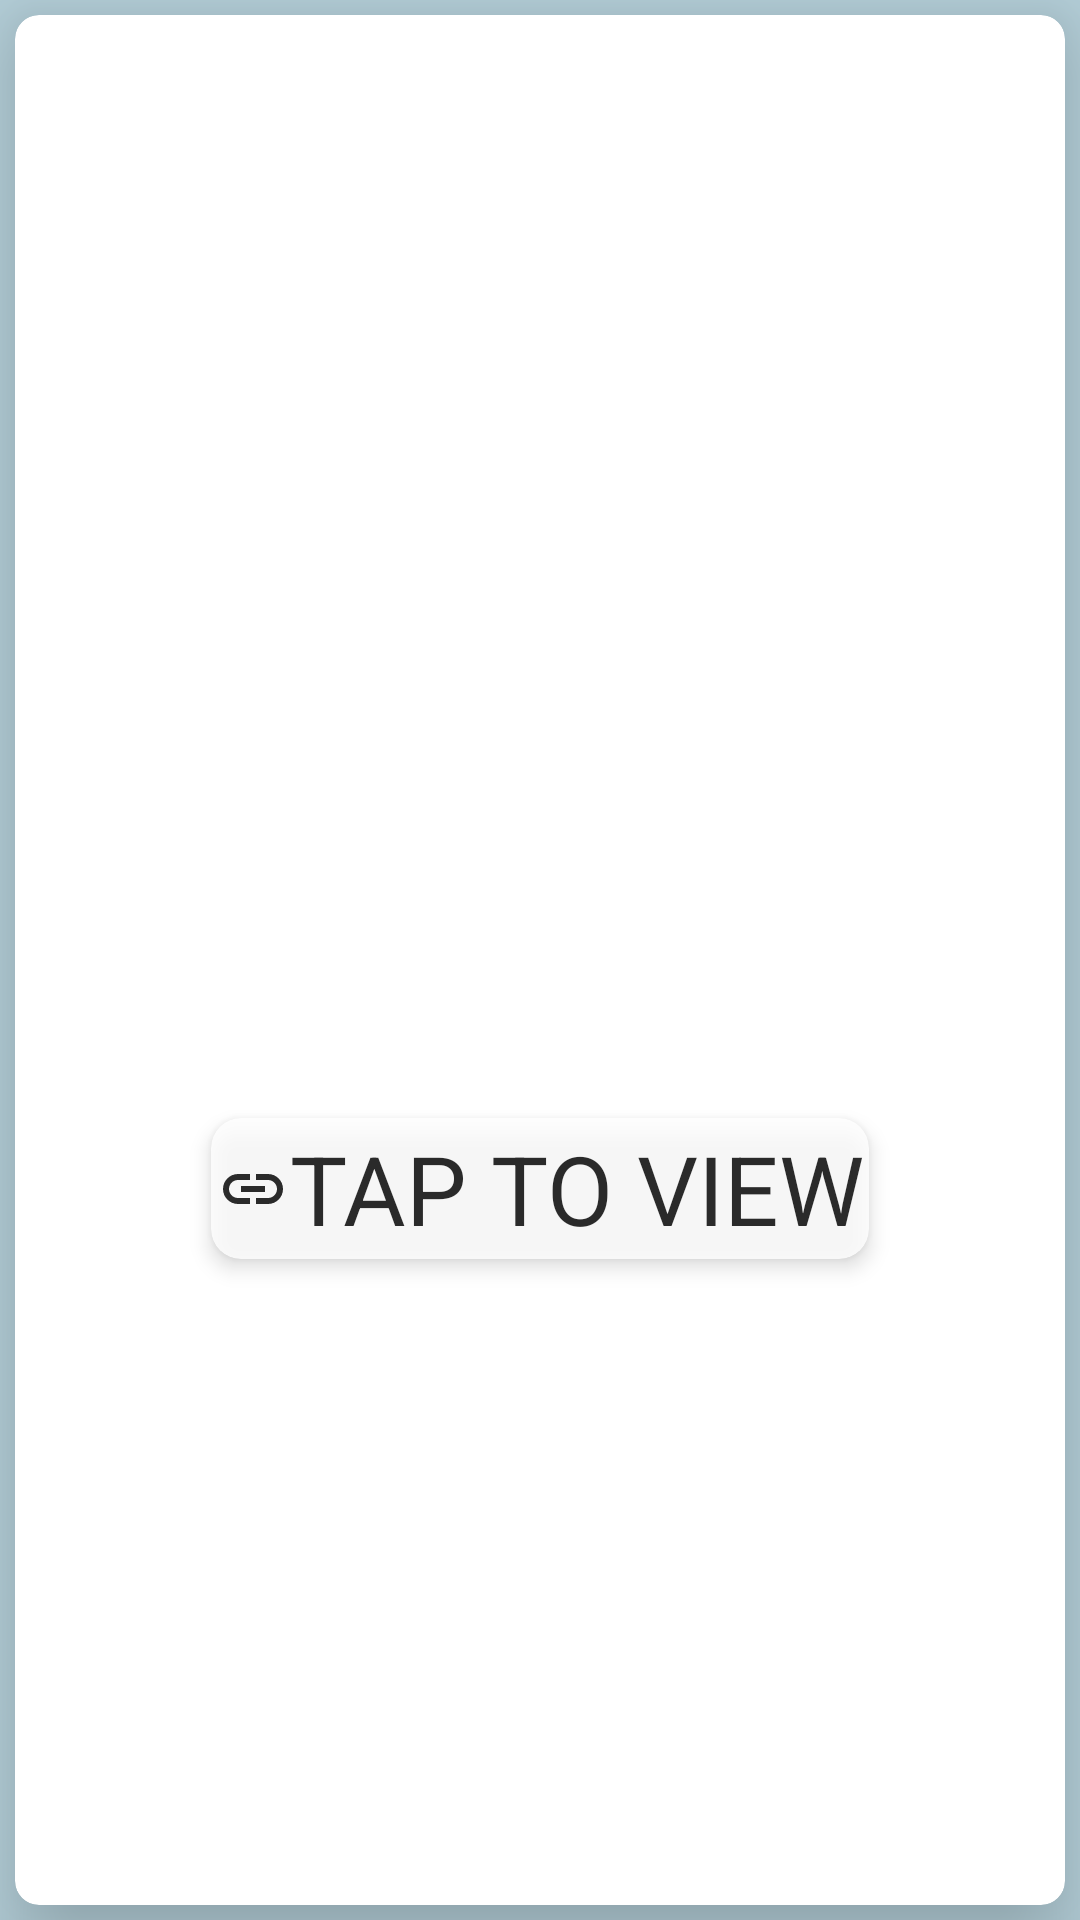

Icon click points for this 1080x1920 phone screenshot, format point (x, y):
clickable link: point (253, 1189)
